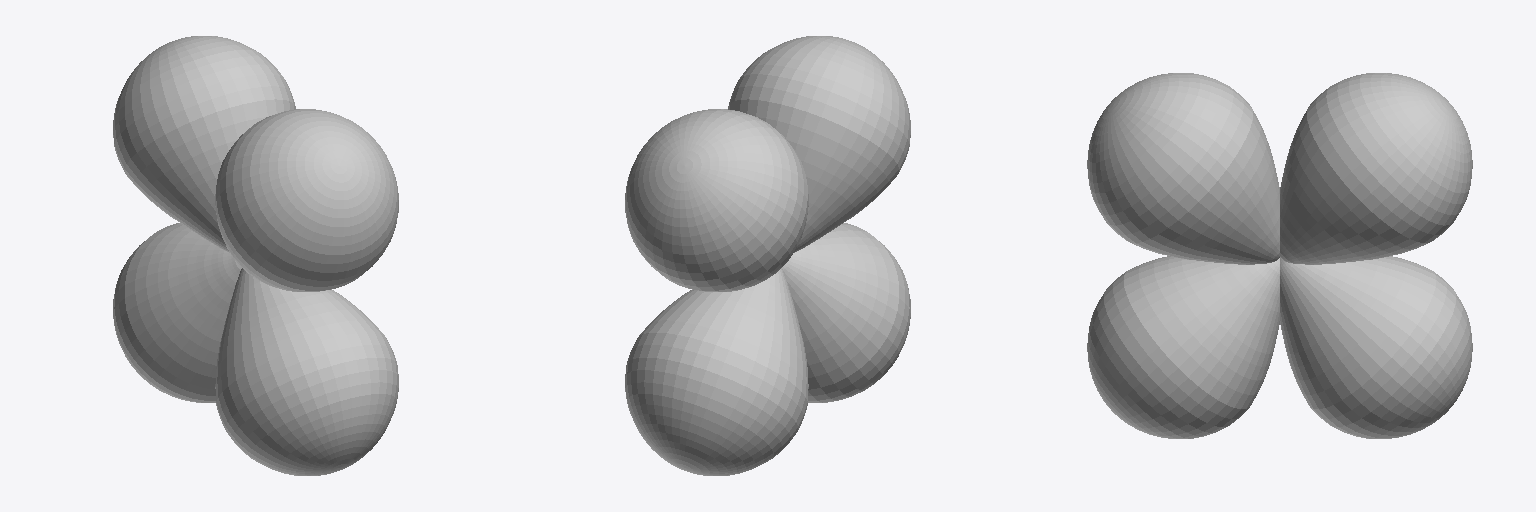
File: Dxy.obj
The picture shows the model from 3 angles: view 1: azimuth 30°, elevation 25°; view 2: azimuth 150°, elevation 25°; view 3: azimuth 270°, elevation 25°; orthographic projection.
Parts seen in each view (by area): view 1: polySurface14 Dgui; view 2: polySurface14 Dgui; view 3: polySurface14 Dgui.
Part boxes in pixels (x1,y1,x2,y2): polySurface14 Dgui: (113, 36, 398, 475); polySurface14 Dgui: (625, 36, 910, 475); polySurface14 Dgui: (1087, 73, 1472, 438).
Size of the model in its own units: 21.7 by 45.06 by 45.06.